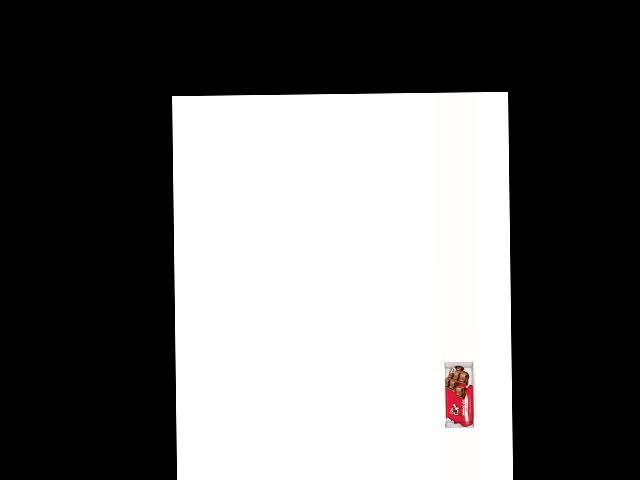chocolate: (448, 360, 489, 438)
